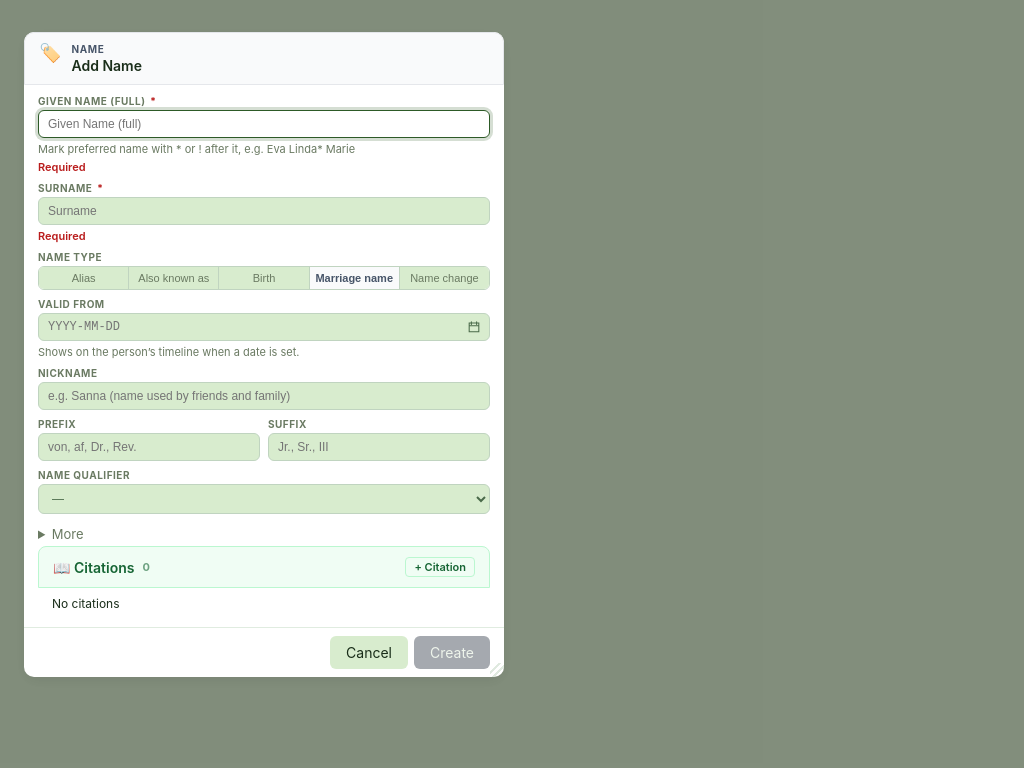
Test: PersonNameModal — Save is disabled until at least one identifier is provided › typing in given_name alone enables Save
In the field with class "ep-input" showing "Given Name (full)": (264, 124) x1=38 y1=110 x2=490 y2=138, type "A"
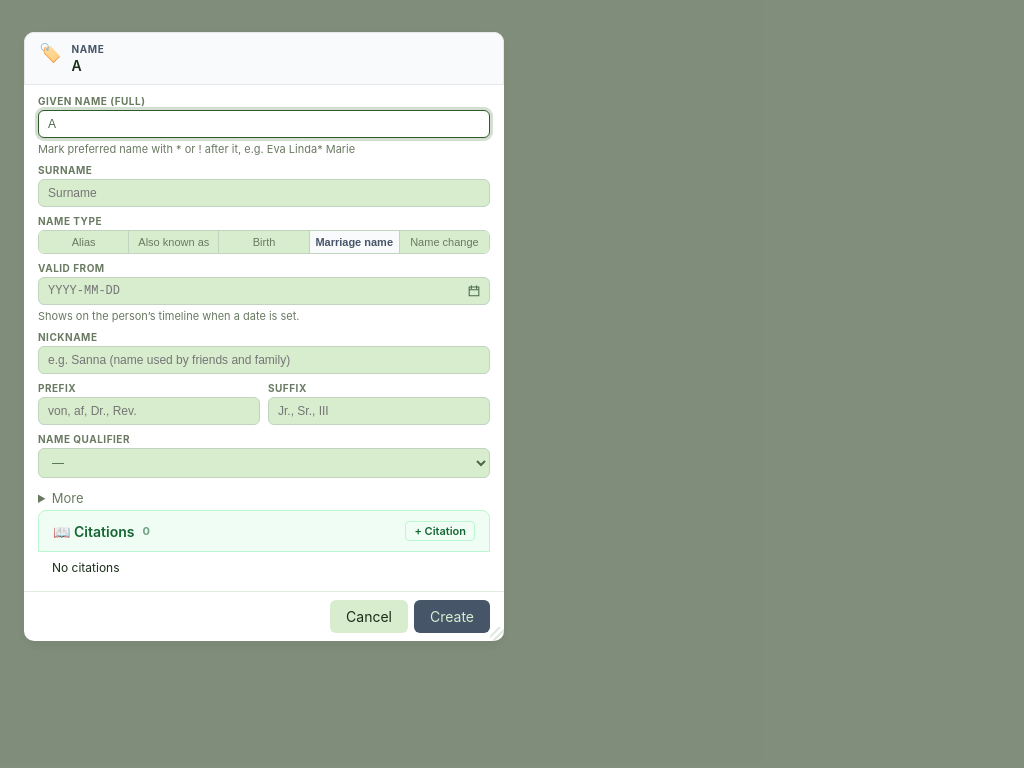
Expected: the button with class "ep-save-btn" is enabled, x1=414 y1=600 x2=490 y2=633
